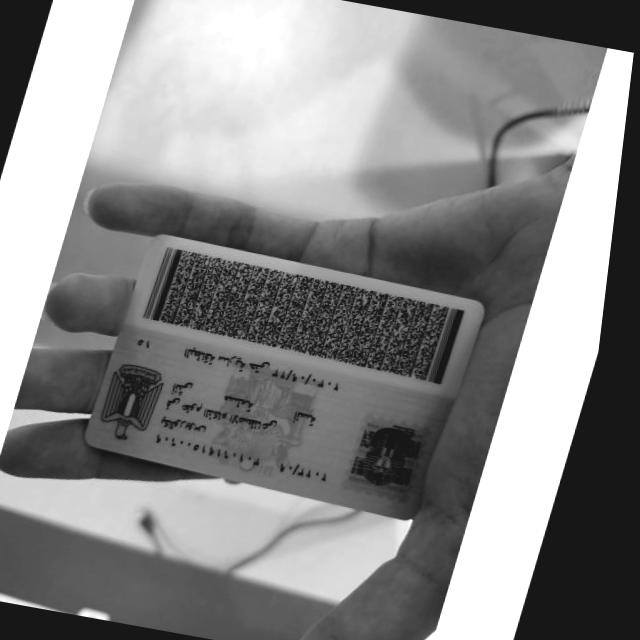id_card: (84, 234, 482, 517)
